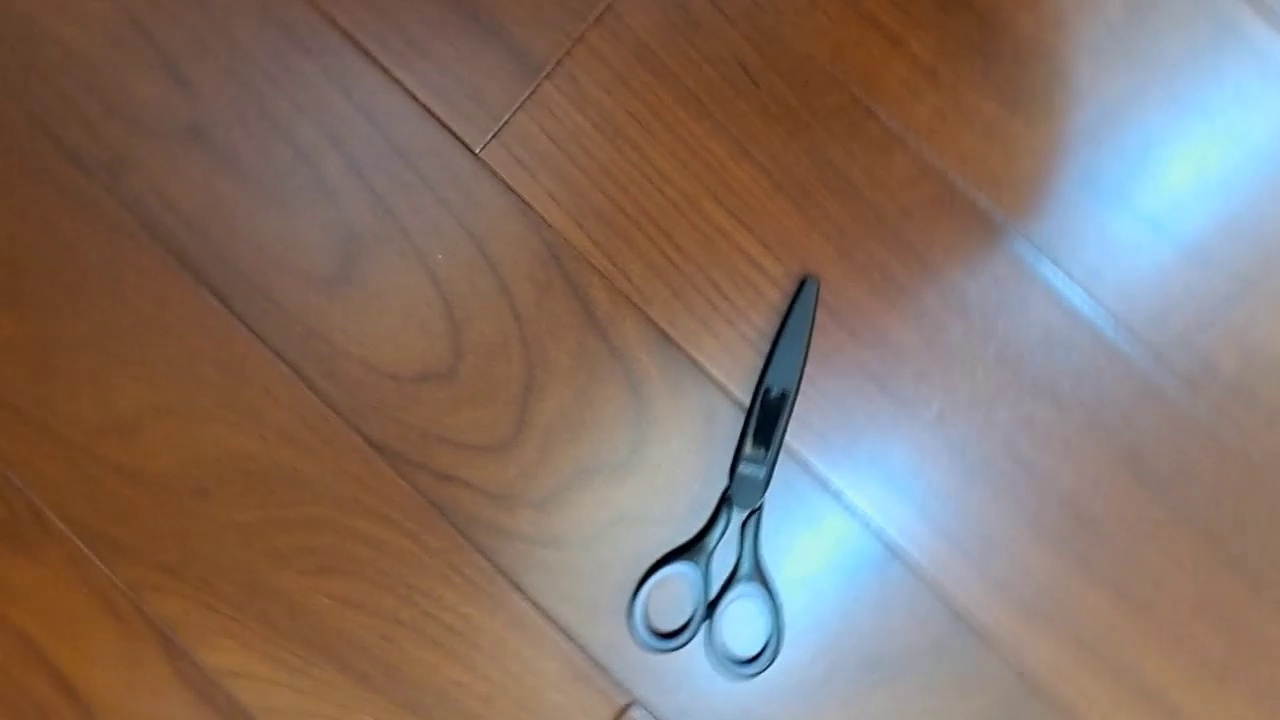scissors: (625, 270, 822, 682)
